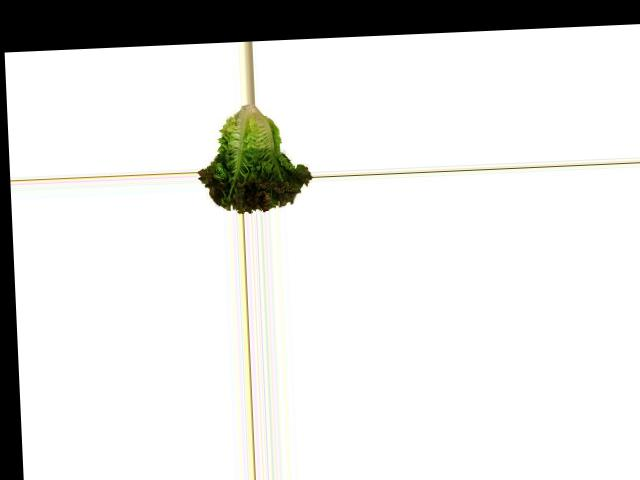lettuce: (196, 101, 313, 214)
